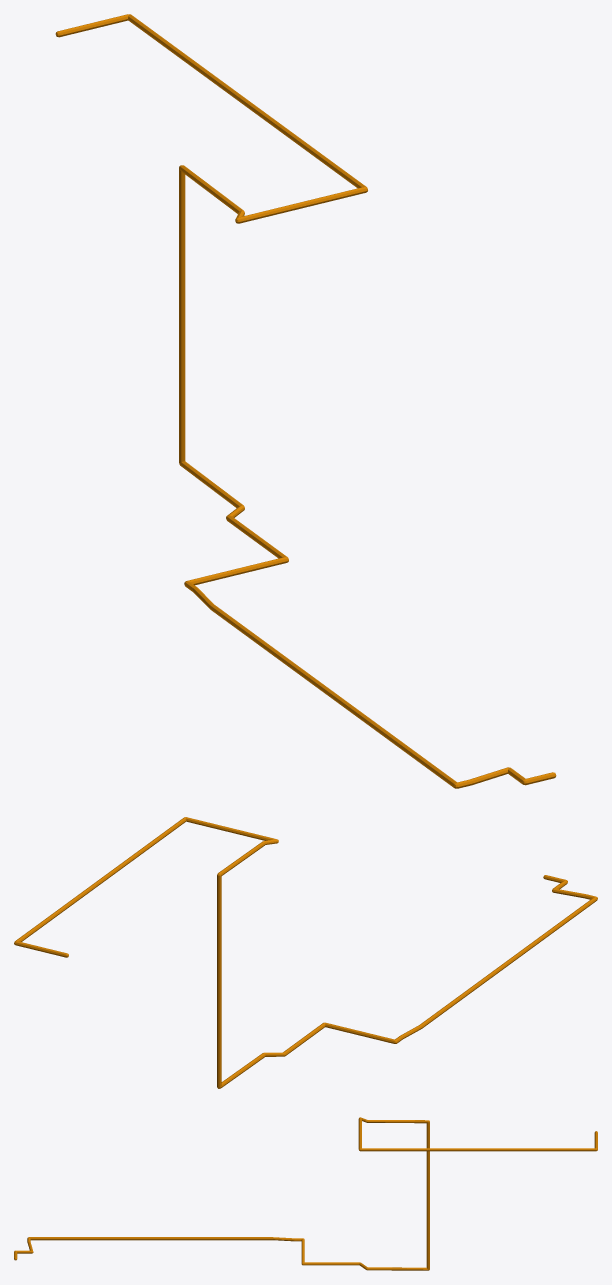
3 renders of one model, top to bottom at view 1: azimuth 30°, elevation 25°; view 2: azimuth 150°, elevation 25°; view 3: azimuth 270°, elevation 25°, orthographic. The views are drawn at different scales.
Size of the model in its own units: 871 by 1020 by 3589.
